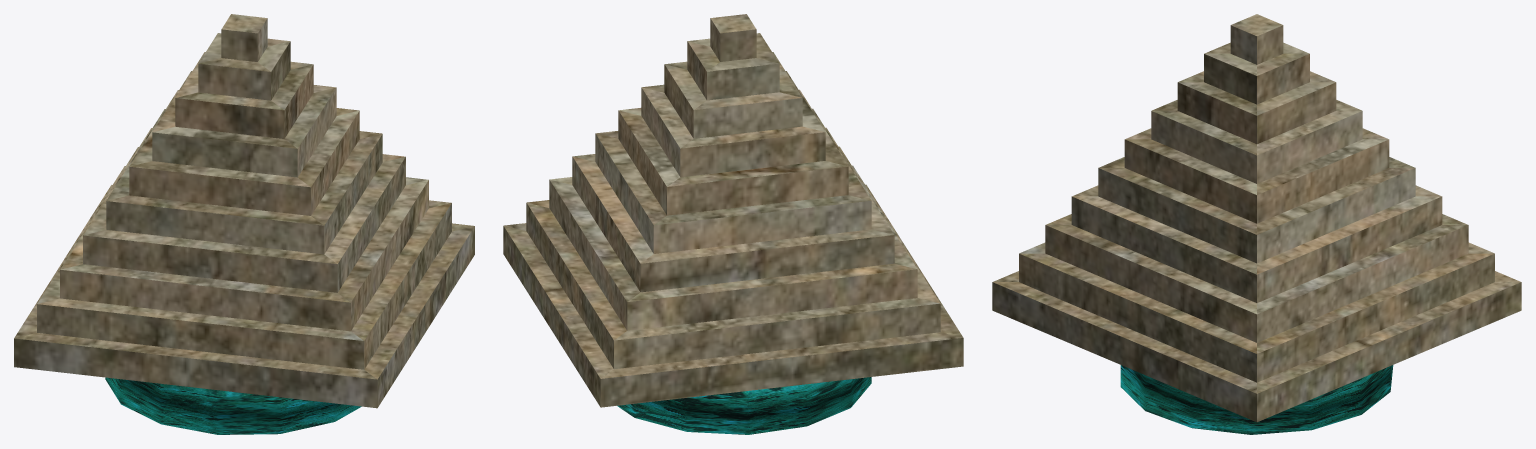
3 renders of one model, left to right at view 1: azimuth 30°, elevation 25°; view 2: azimuth 150°, elevation 25°; view 3: azimuth 270°, elevation 25°, orthographic.
Parts seen in each view (by area): view 1: Pyramid, Cylinder.017; view 2: Pyramid, Cylinder.017; view 3: Pyramid, Cylinder.017.
Part boxes in pixels (bbox=[...]): Pyramid: bbox=[14, 14, 474, 408]; Cylinder.017: bbox=[105, 377, 361, 434]; Pyramid: bbox=[503, 14, 963, 407]; Cylinder.017: bbox=[617, 377, 871, 434]; Pyramid: bbox=[992, 14, 1521, 422]; Cylinder.017: bbox=[1120, 365, 1393, 434].
Size of the model in its own units: 3.82 by 2.8 by 3.82.
2 materials, 2 textured.
